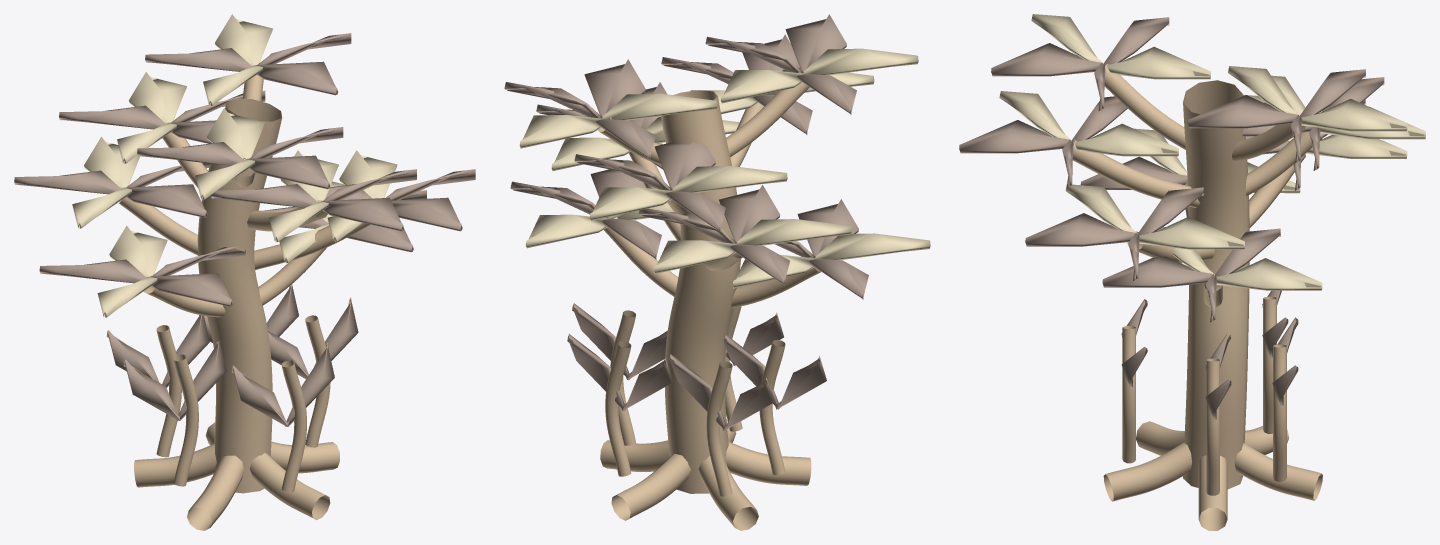
The model's file is bio_canopy_tree_12_near.glb.
The picture shows the model from 3 angles, left to right: view 1: azimuth 30°, elevation 25°; view 2: azimuth 150°, elevation 25°; view 3: azimuth 270°, elevation 25°; orthographic projection. The views are drawn at different scales.
Parts seen in each view (by area): view 1: Buttressed trunk, Broad canopy leaf.035, Broad canopy leaf.015, Broad canopy leaf.010, Broad canopy leaf.020, Broad canopy leaf.005, Broad canopy leaf.030, Broad canopy leaf.021, Broad canopy leaf.016, Broad canopy leaf.036, Broad canopy leaf.025, Broad canopy leaf.031 (+14 smaller); view 2: Buttressed trunk, Broad canopy leaf.015, Broad canopy leaf.035, Broad canopy leaf.005, Broad canopy leaf.030, Broad canopy leaf.006, Broad canopy leaf.031, Broad canopy leaf.016, Broad canopy leaf.036, Broad canopy leaf.021, Broad canopy leaf, Broad canopy leaf.020 (+15 smaller); view 3: Buttressed trunk, Broad canopy leaf.035, Broad canopy leaf.015, Broad canopy leaf.025, Broad canopy leaf, Broad canopy leaf.010, Broad canopy leaf.016, Broad canopy leaf.011, Broad canopy leaf.026, Broad canopy leaf.036, Broad canopy leaf.001, Broad canopy leaf.006 (+12 smaller).
Boxes of the visible parts, x1,y1,x2,y2 form: Buttressed trunk: [119, 75, 370, 530]; Broad canopy leaf.035: [137, 127, 343, 189]; Broad canopy leaf.015: [145, 33, 351, 95]; Broad canopy leaf.010: [211, 169, 416, 231]; Broad canopy leaf.020: [39, 246, 245, 306]; Broad canopy leaf.005: [14, 162, 210, 217]; Broad canopy leaf.030: [59, 90, 265, 143]; Broad canopy leaf.021: [97, 225, 167, 317]; Broad canopy leaf.016: [203, 14, 272, 106]; Broad canopy leaf.036: [195, 108, 264, 199]; Broad canopy leaf.025: [325, 169, 475, 231]; Broad canopy leaf.031: [117, 72, 186, 163]; Buttressed trunk: [598, 71, 820, 530]; Broad canopy leaf.015: [504, 59, 655, 159]; Broad canopy leaf.035: [705, 14, 856, 114]; Broad canopy leaf.005: [638, 185, 789, 284]; Broad canopy leaf.030: [574, 141, 725, 232]; Broad canopy leaf.006: [654, 219, 851, 273]; Broad canopy leaf.031: [589, 166, 787, 220]; Broad canopy leaf.016: [519, 93, 717, 148]; Broad canopy leaf.036: [720, 48, 918, 103]; Broad canopy leaf.021: [732, 233, 930, 288]; Broad canopy leaf: [510, 169, 661, 259]; Broad canopy leaf.020: [775, 199, 868, 299]; Buttressed trunk: [1073, 64, 1322, 530]; Broad canopy leaf.035: [991, 17, 1169, 110]; Broad canopy leaf.015: [1187, 69, 1365, 163]; Broad canopy leaf.025: [1025, 187, 1203, 281]; Broad canopy leaf: [1102, 228, 1280, 322]; Broad canopy leaf.010: [959, 96, 1127, 187]; Broad canopy leaf.016: [1228, 66, 1407, 131]; Broad canopy leaf.011: [999, 91, 1178, 156]; Broad canopy leaf.026: [1065, 184, 1244, 249]; Broad canopy leaf.036: [1031, 14, 1210, 79]; Broad canopy leaf.001: [1157, 226, 1322, 290]; Broad canopy leaf.006: [1243, 95, 1407, 158].
Bounding box in the file's own units: 2.97 × 2.99 × 3.05.
